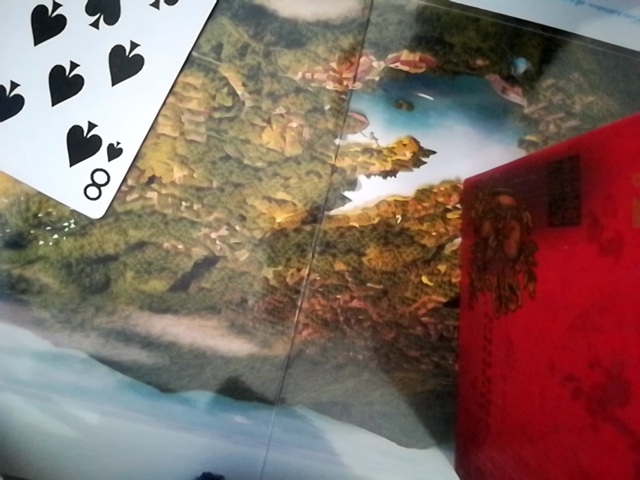ht 8: (0, 0, 242, 229)
